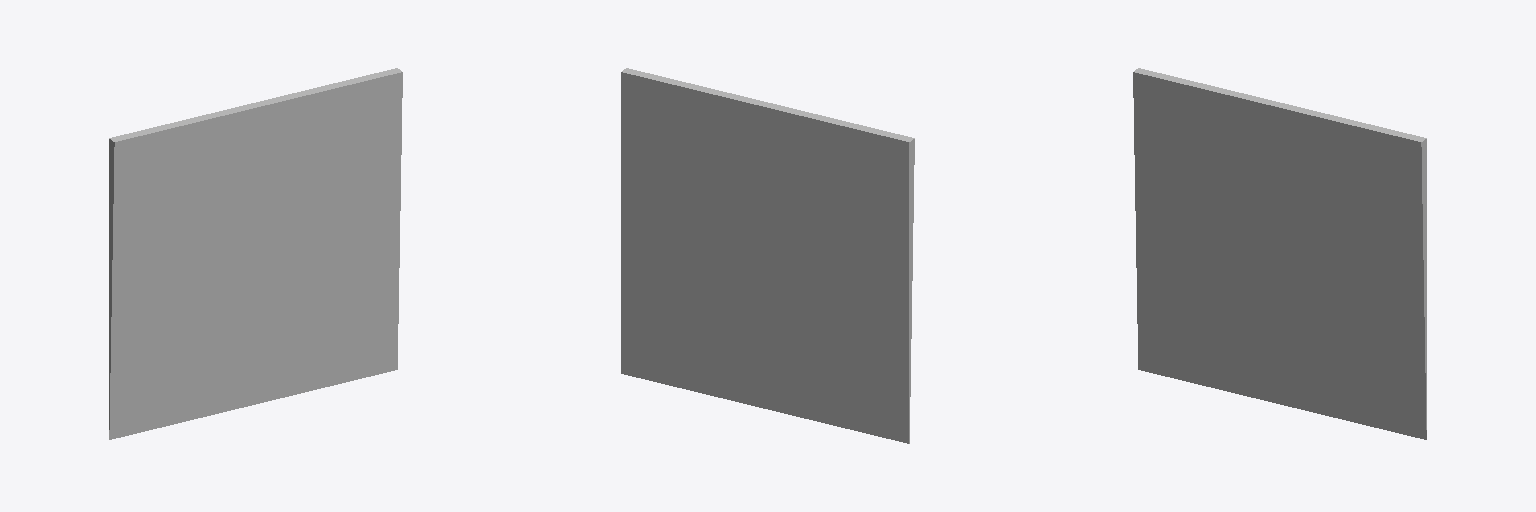
The model's file is simple-topo.obj.
3 views of the same model, side by side, from view 1: azimuth 30°, elevation 25°; view 2: azimuth 150°, elevation 25°; view 3: azimuth 330°, elevation 25° (orthographic).
Size of the model in its own units: 6 by 6 by 0.2.